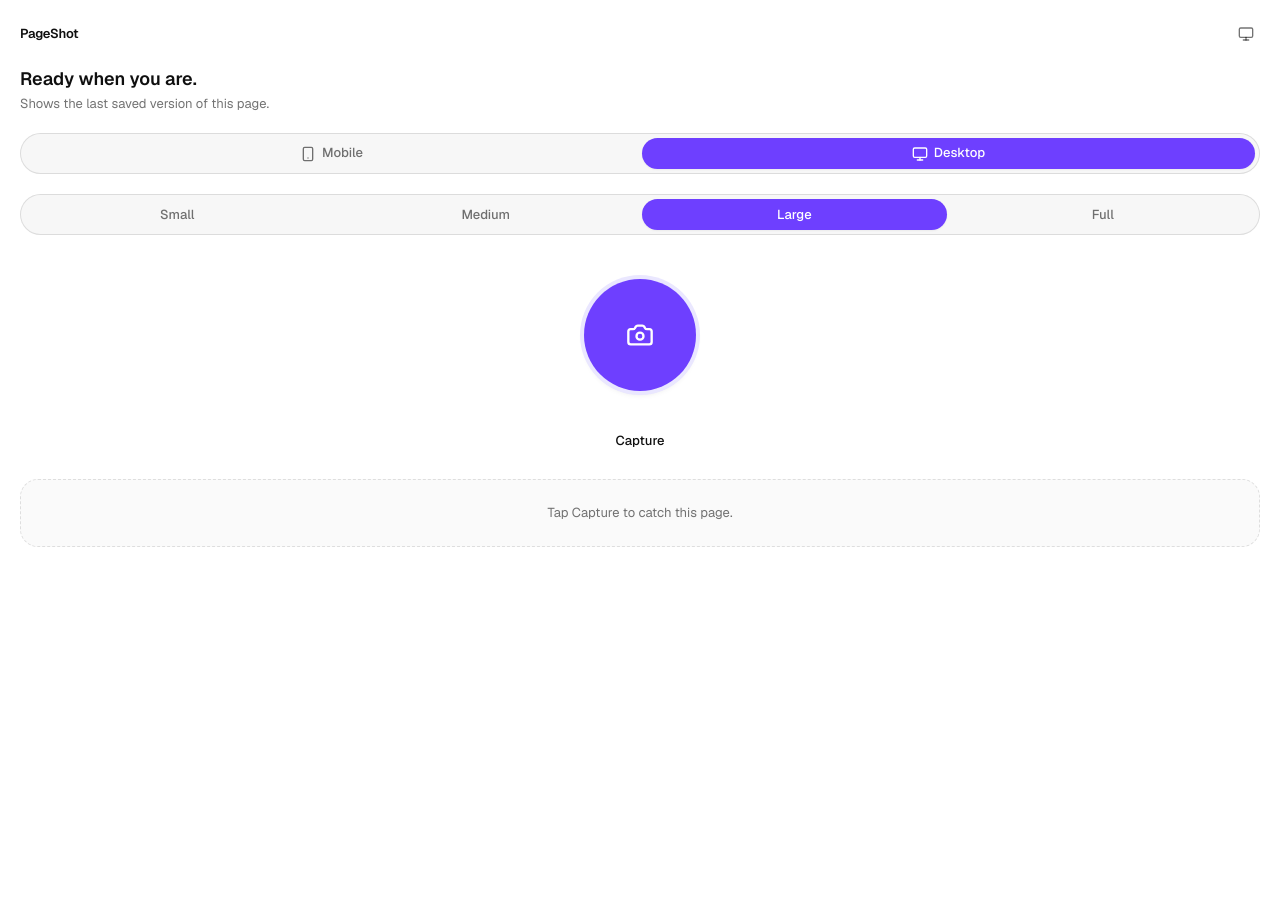
Test: T025-TEST-3 — 5xx upstream produces error card with visible Retry › renders upstream_unavailable title + subtitle and an enabled Retry pill
Step 1. Click the button named "capture screenshot" → (640, 335), box [584, 279, 696, 391]
(page scrolled)
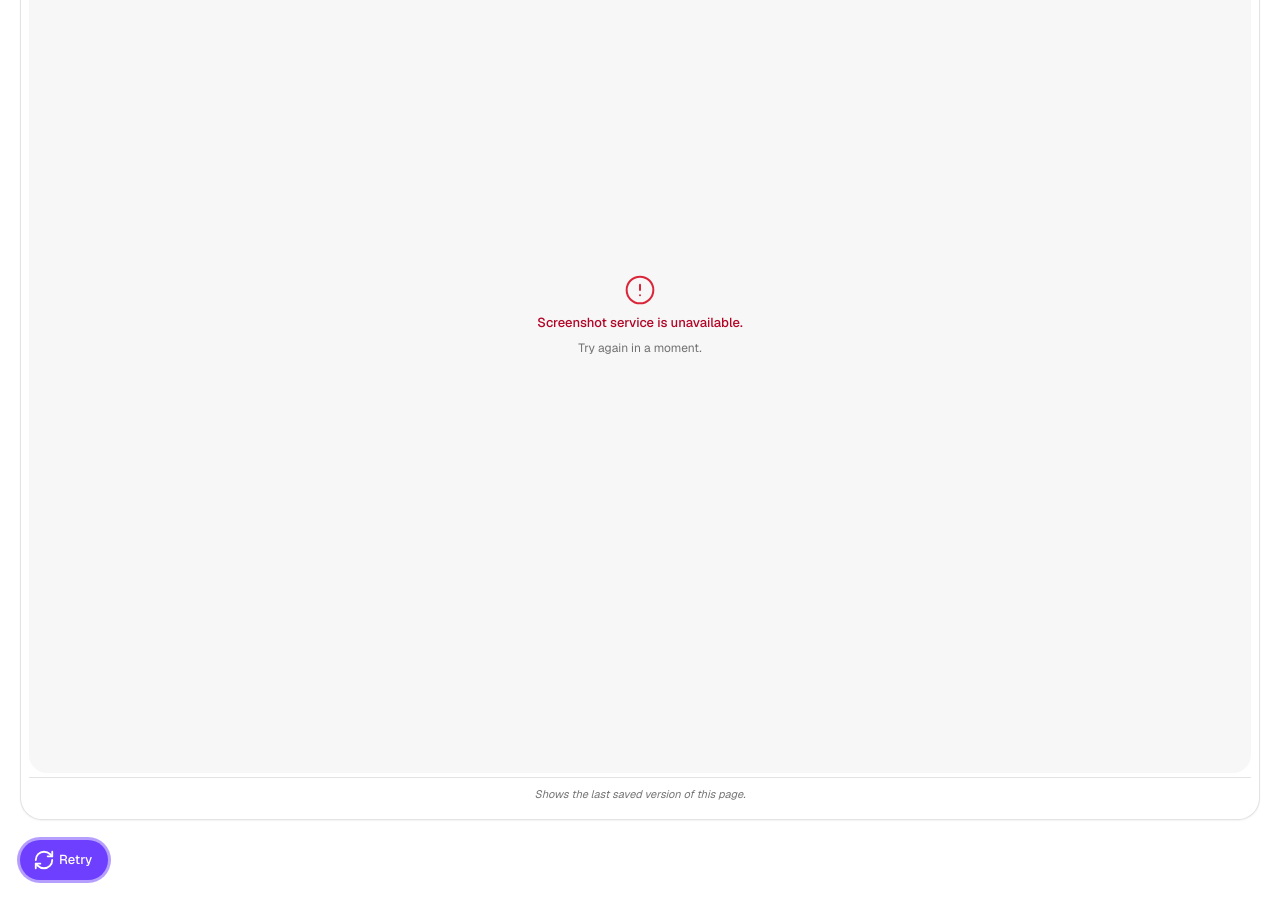
expect the text with test id "polaroid-error-title" shows "unavailable": met, box [537, 314, 743, 331]
expect the text with test id "polaroid-error-subtitle" shows "Try again": met, box [578, 340, 702, 356]
expect the button "Retry" is enabled: met, box [20, 840, 108, 880]
